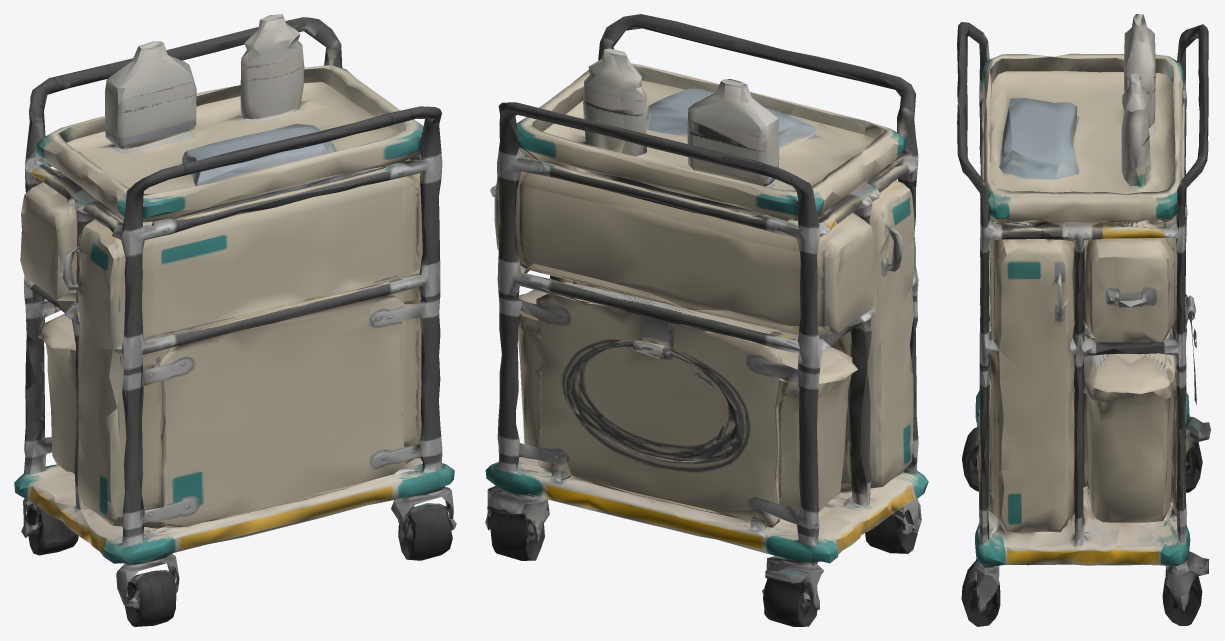
File: SD_MaintenanceStation.fbx
3 views of the same model, side by side, from view 1: azimuth 30°, elevation 25°; view 2: azimuth 150°, elevation 25°; view 3: azimuth 270°, elevation 25° (orthographic).
Visible parts, largest first — view 1: SD_MaintenanceStation_LOD0; view 2: SD_MaintenanceStation_LOD0; view 3: SD_MaintenanceStation_LOD0.
Part boxes in pixels (x1=…): SD_MaintenanceStation_LOD0: x1=14, y1=14, x2=456, y2=626; SD_MaintenanceStation_LOD0: x1=485, y1=14, x2=928, y2=626; SD_MaintenanceStation_LOD0: x1=957, y1=14, x2=1210, y2=626.
Size of what is drawn, in the model's own units: 85 by 110 by 50.
